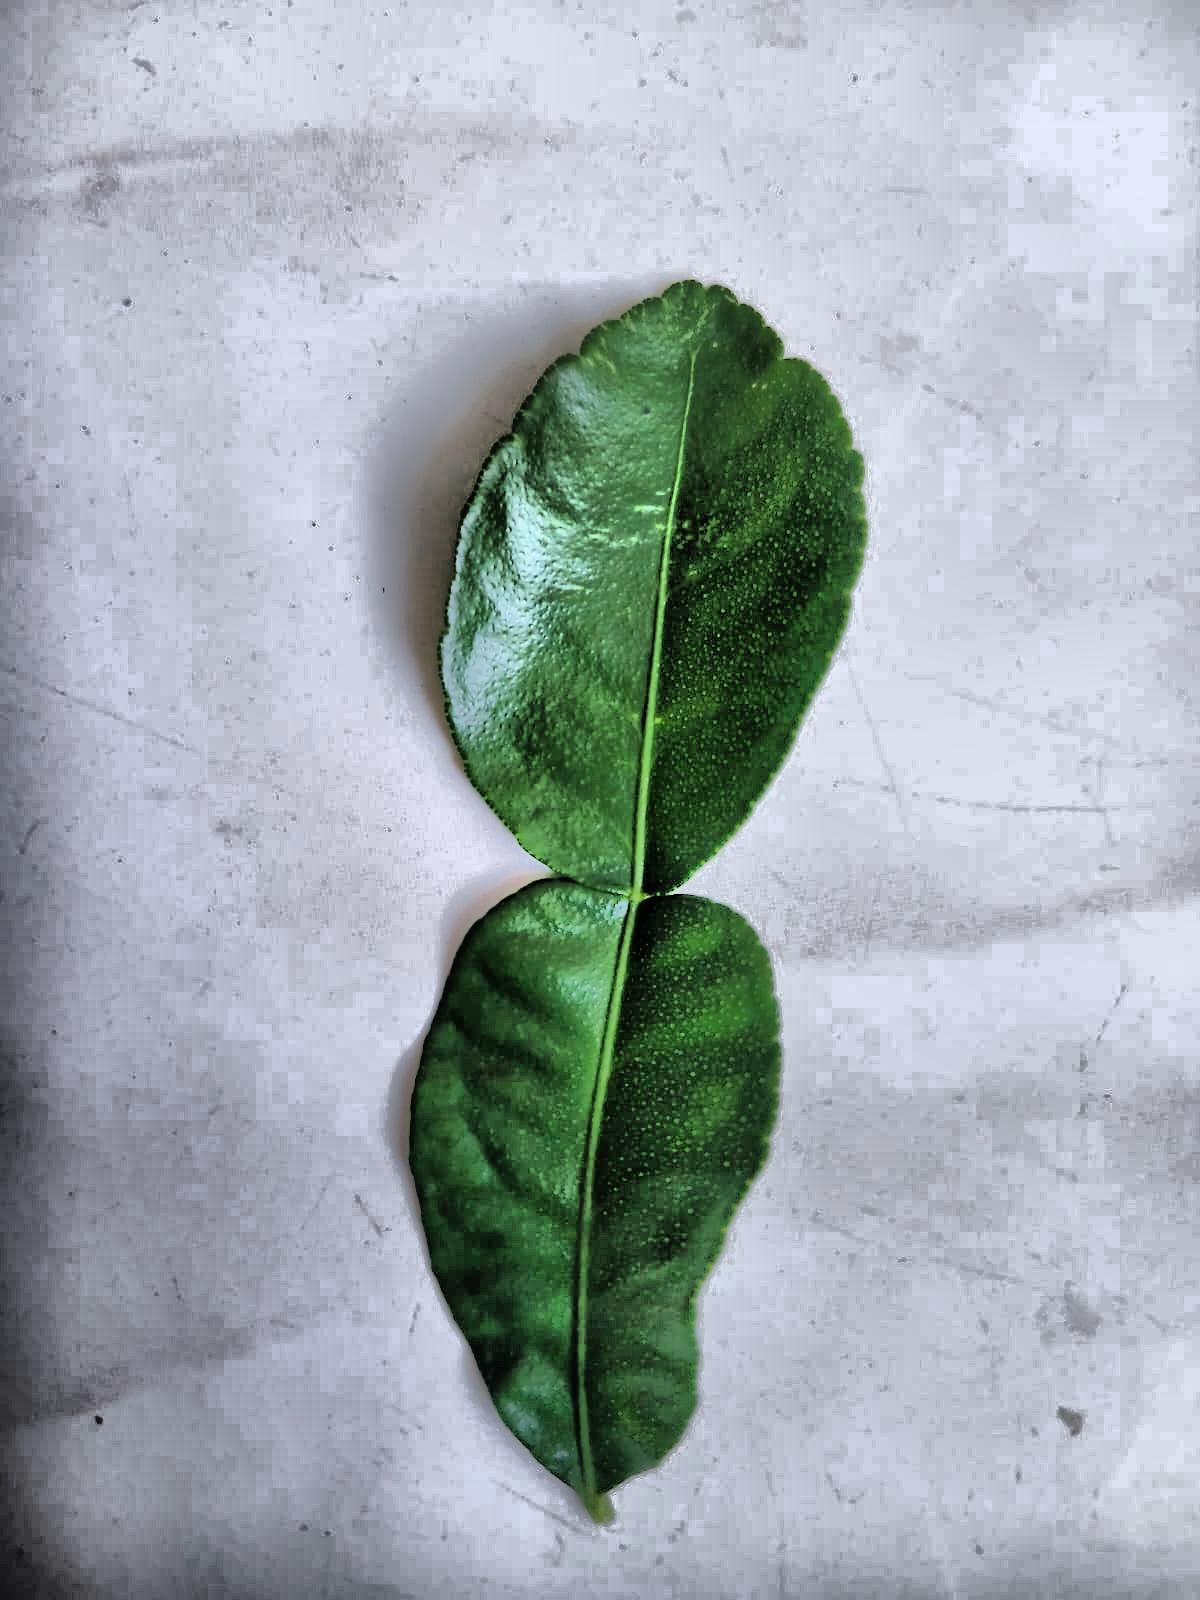daun jeruk: (411, 282, 866, 1519), (629, 658, 640, 659)
